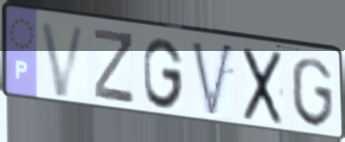G: (289, 55, 336, 131), (141, 36, 186, 111)
V: (37, 19, 90, 100), (189, 38, 237, 122)
X: (241, 45, 285, 128)
Z: (92, 26, 136, 108)
